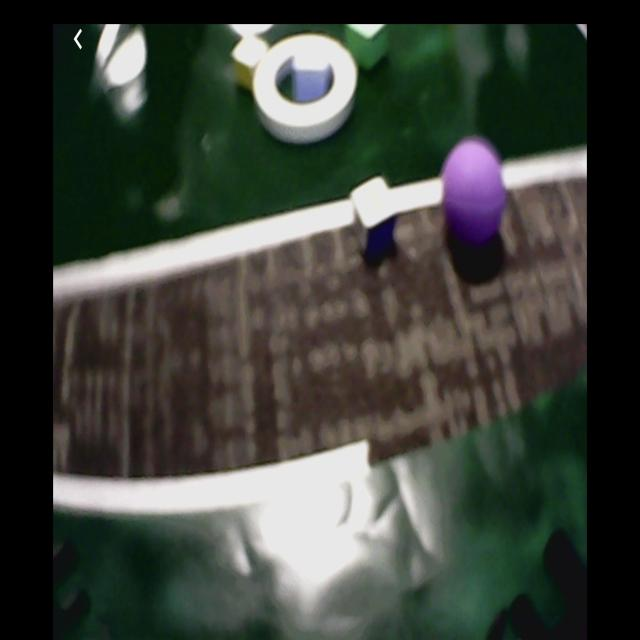ball: (444, 139, 505, 245)
